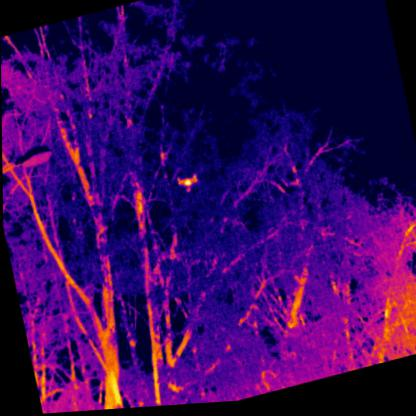drone: (175, 174, 198, 195)
